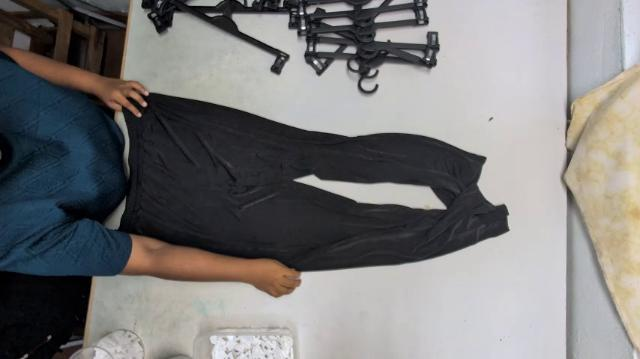new-garment: (121, 94, 508, 271)
